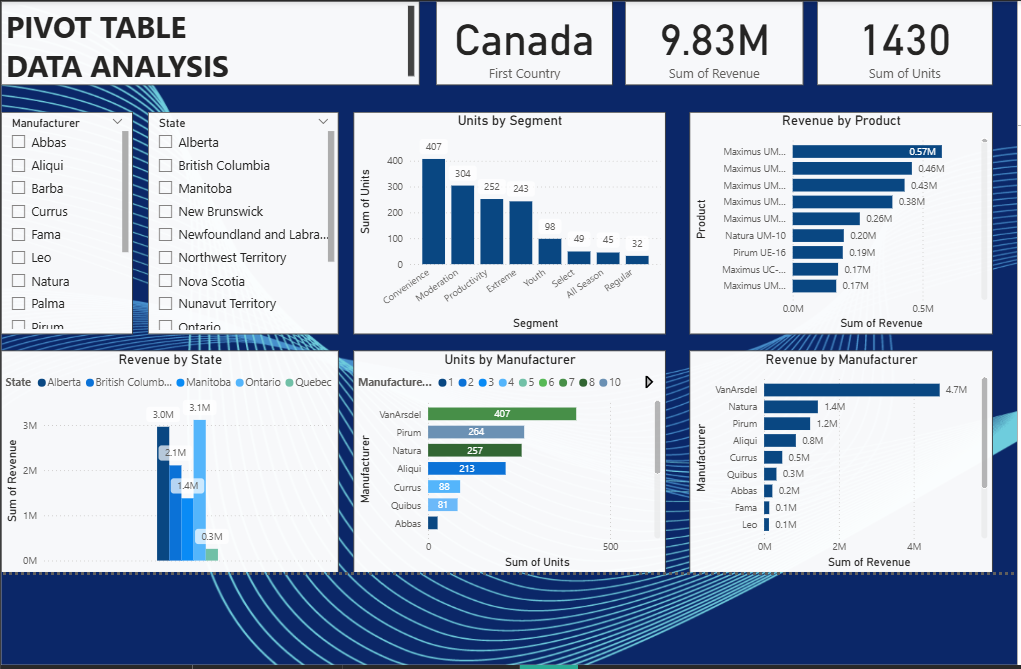

The page's visual inventory and layout, read from the dashboard file:
{"tool":"powerbi","page":{"name":"Dashboard","canvas":[1280,720],"ordinal":0},"visuals":[{"type":"barChart","title":"Revenue by Manufacturer","fields":{"Category":["Manufacturer.Manufacturer"],"Y":["Sum(Sales.Revenue)"]},"box":[867.4,440.3,381.7,279.7],"z":0},{"type":"barChart","title":"Units by Manufacturer","fields":{"Category":["Manufacturer.Manufacturer"],"Y":["Sum(Sales.Units)"],"Series":["Manufacturer.ManufacturerID"]},"box":[444.1,440.3,393.1,279.7],"z":1000},{"type":"lineClusteredColumnComboChart","title":"Revenue by State","fields":{"Y":["Sum(Sales.Revenue)"],"Series":["Location.State"]},"box":[0,440.3,425.2,279.7],"z":2000},{"type":"barChart","title":"Revenue by Product","fields":{"Category":["Product.Product"],"Y":["Sum(Sales.Revenue)"]},"box":[867.4,139.8,381.7,279.7],"z":3000},{"type":"lineClusteredColumnComboChart","title":"Units by Segment","fields":{"Category":["Product.Segment"],"Y":["Sum(Sales.Units)"]},"box":[444.1,139.8,393.1,279.7],"z":4000},{"type":"card","fields":{"Values":["Sum(Sales.Revenue)"]},"box":[786.1,0,224.9,105.8],"z":5000},{"type":"card","fields":{"Values":["Sum(Sales.Units)"]},"box":[1028,0,221.1,105.8],"z":6000},{"type":"slicer","fields":{"Values":["Manufacturer.Manufacturer"]},"box":[0,139.8,166.3,279.7],"z":7000},{"type":"slicer","fields":{"Values":["Location.State"]},"box":[185,140,240,280],"z":8000},{"type":"card","fields":{"Values":["Min(Location.Country)"]},"box":[548,0,223,105.8],"z":9000},{"type":"textbox","box":[0,0,527.2,105.8],"z":10000}]}

Visuals, with their boxes in screenshot pixels (x1, y1, x2, y2):
"Revenue by Manufacturer" barChart: x1=685 y1=346 x2=985 y2=566
"Units by Manufacturer" barChart: x1=352 y1=346 x2=661 y2=566
"Revenue by State" lineClusteredColumnComboChart: x1=3 y1=346 x2=337 y2=566
"Revenue by Product" barChart: x1=685 y1=110 x2=985 y2=330
"Units by Segment" lineClusteredColumnComboChart: x1=352 y1=110 x2=661 y2=330
card - Sum(Sales.Revenue): x1=621 y1=0 x2=798 y2=83
card - Sum(Sales.Units): x1=811 y1=0 x2=985 y2=83
slicer - Manufacturer.Manufacturer: x1=3 y1=110 x2=133 y2=330
slicer - Location.State: x1=148 y1=110 x2=337 y2=330
card - Min(Location.Country): x1=434 y1=0 x2=609 y2=83
textbox: x1=3 y1=0 x2=417 y2=83
